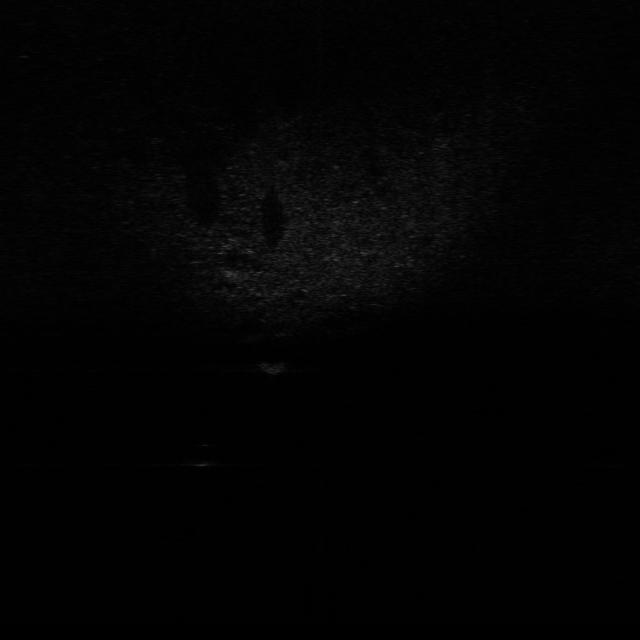ball: (174, 438, 226, 470)
cube: (261, 357, 287, 380)
